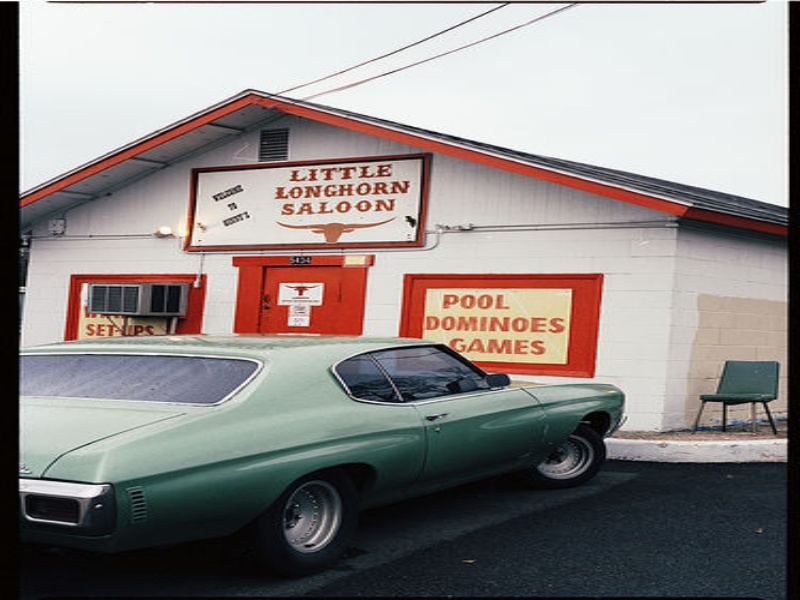car: (20, 334, 626, 563)
